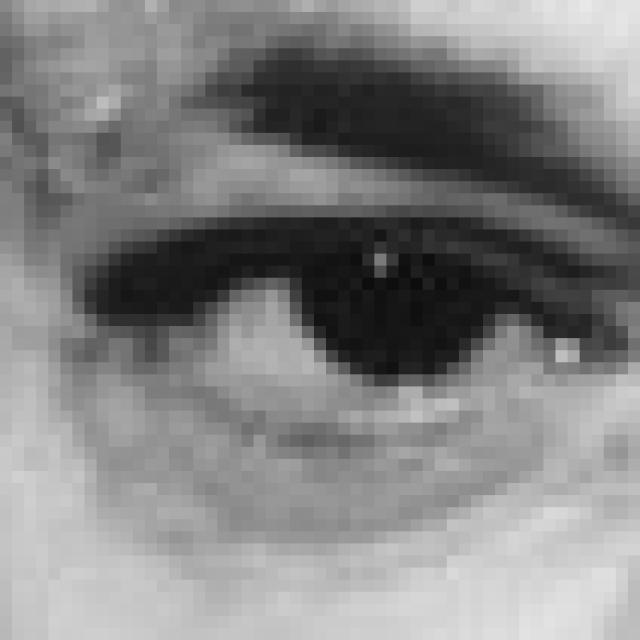eye: (69, 120, 627, 490)
